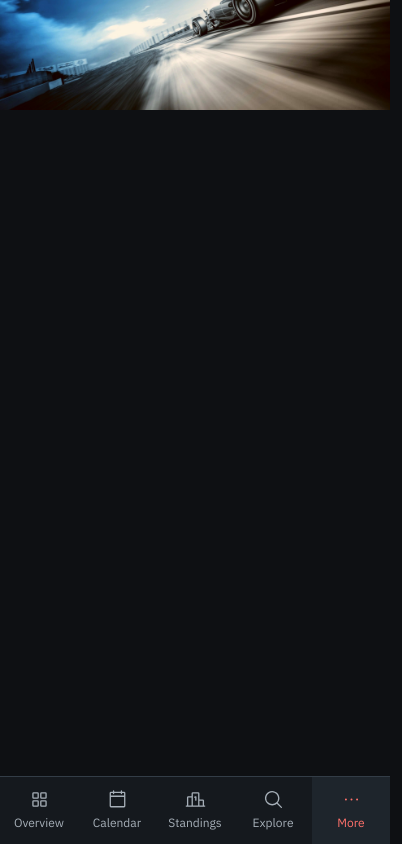
Test: mobile navigation keeps primary tasks visible and groups secondary routes
This screenshot has width=402, height=844.
Expected: the link "Overview" is shown, [14,789,64,830]
Expected: the link "Calendar" is shown, [93,789,141,830]
Click the button "More" at (351, 810), box [312,777,390,843]
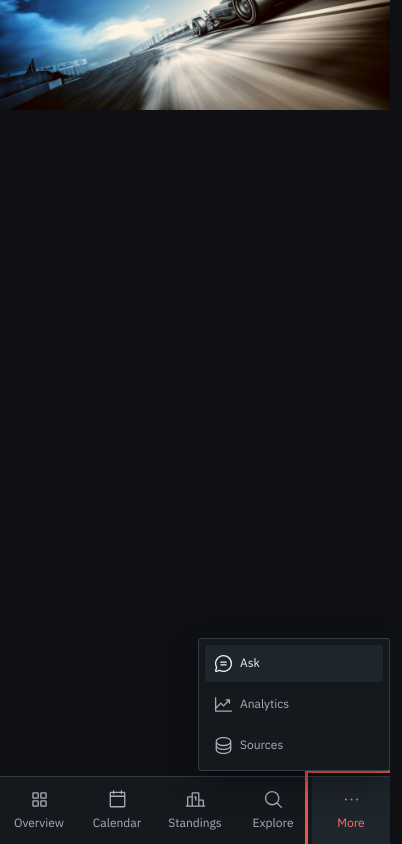
Now the link "Ask" is shown, box [205,645,383,682]
Now the link "Sources" is shown, box [213,735,283,756]
